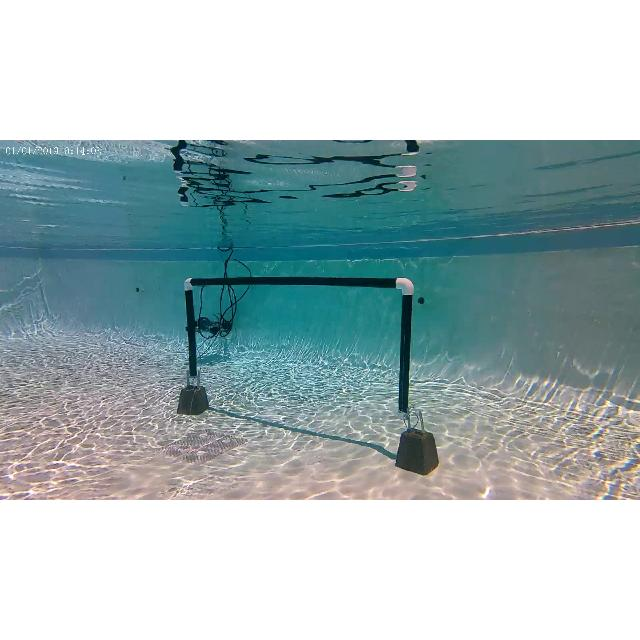prequal gate: (184, 276, 413, 422)
prequal gate leg l: (181, 275, 205, 389)
prequal gate leg r: (390, 272, 418, 426)
